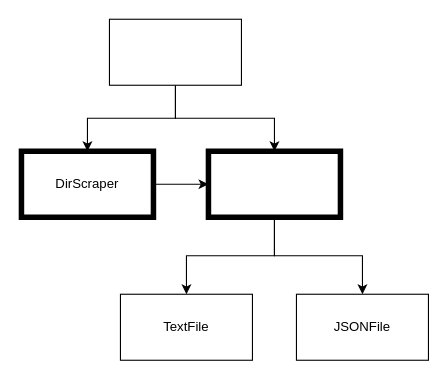
The diagram is 448 pixels wide and 380 high, and some of its shapes have lost their labels. Each missing label, with the centre of its shape:
"App" goes at (174,51).
"ScraperMethods" goes at (274,183).
